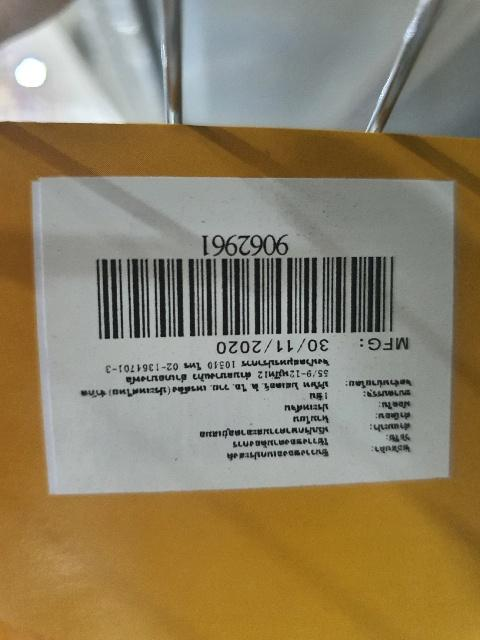Barcode: (91, 230, 400, 340)
